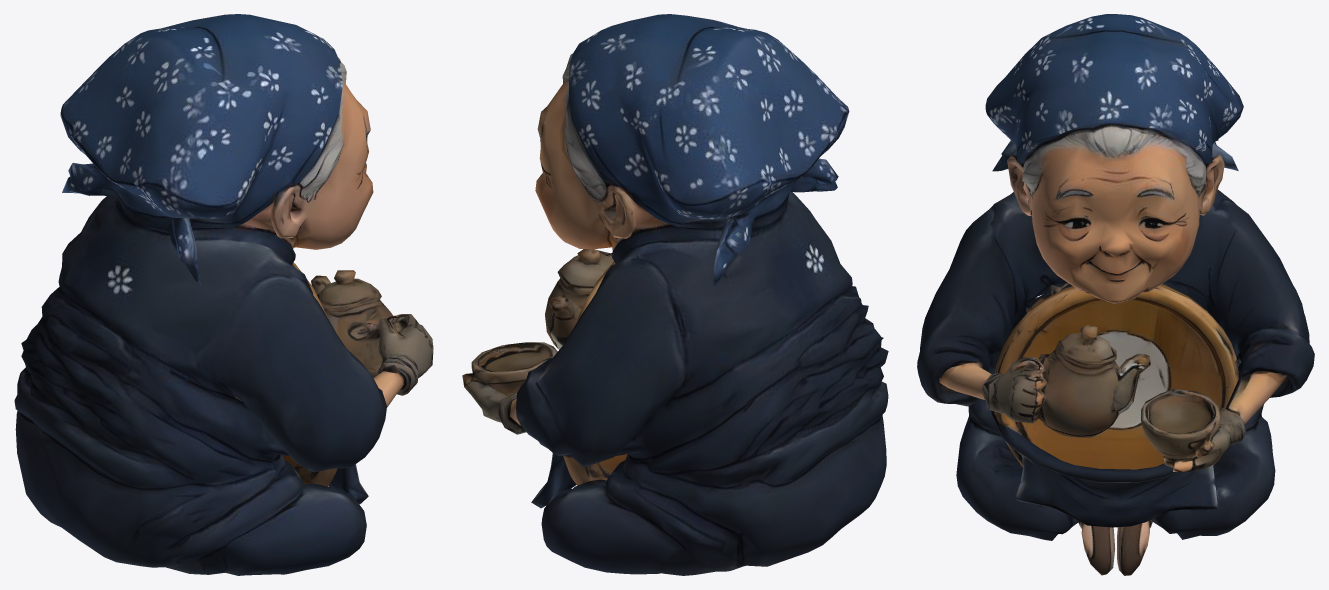
The model's file is a_tea.glb.
The picture shows the model from 3 angles, left to right: view 1: azimuth 30°, elevation 25°; view 2: azimuth 150°, elevation 25°; view 3: azimuth 270°, elevation 25°; orthographic projection. The views are drawn at different scales.
Parts seen in each view (by area): view 1: tripo_node_690b67d8-cb5a-4002-bfba-ba893a061a33; view 2: tripo_node_690b67d8-cb5a-4002-bfba-ba893a061a33; view 3: tripo_node_690b67d8-cb5a-4002-bfba-ba893a061a33.
Boxes of the visible parts, x1,y1,x2,y2 form: tripo_node_690b67d8-cb5a-4002-bfba-ba893a061a33: [14, 14, 433, 575]; tripo_node_690b67d8-cb5a-4002-bfba-ba893a061a33: [462, 14, 888, 575]; tripo_node_690b67d8-cb5a-4002-bfba-ba893a061a33: [917, 14, 1314, 575].
Size of the model in its own units: 0.6852 by 1 by 0.7185.
1 material, 1 textured.
